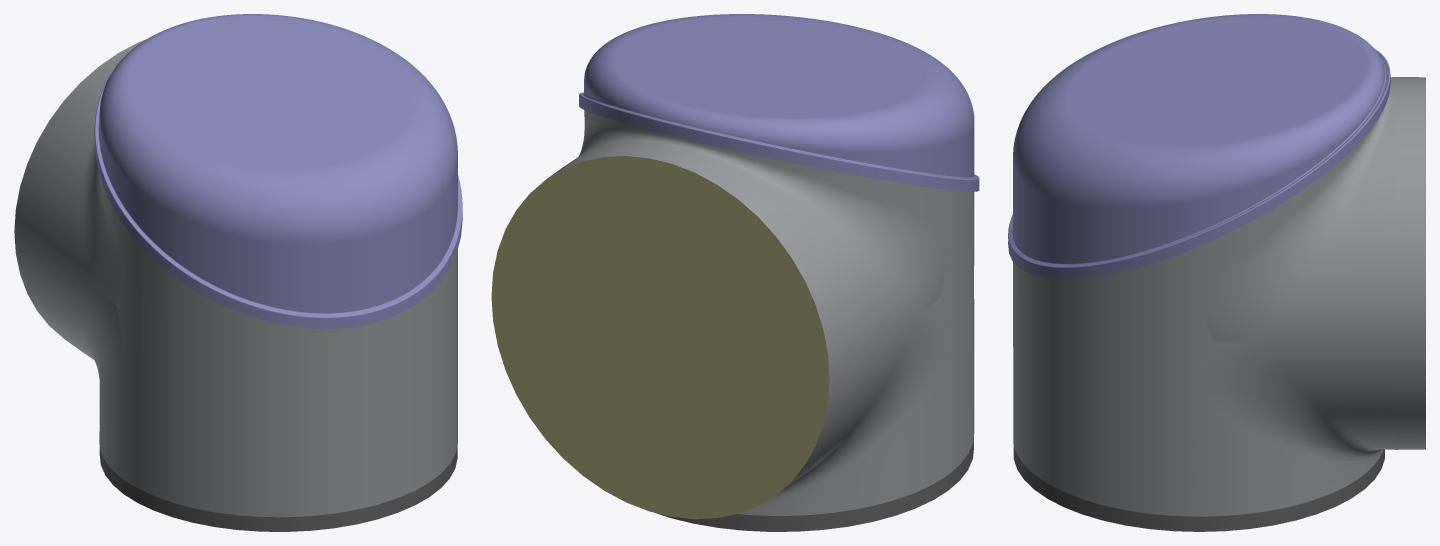
Rendered from Shoulder.fbx.
3 renders of one model, left to right at view 1: azimuth 30°, elevation 25°; view 2: azimuth 150°, elevation 25°; view 3: azimuth 270°, elevation 25°, orthographic. The views are drawn at different scales.
Parts seen in each view (by area): view 1: Actor0, Actor1; view 2: Actor0, Actor1; view 3: Actor0, Actor1.
Boxes of the visible parts, <box> form: Actor0: <box>14,39,457,531</box>; Actor1: <box>94,14,462,328</box>; Actor0: <box>491,110,974,531</box>; Actor1: <box>579,14,979,191</box>; Actor0: <box>1013,77,1425,531</box>; Actor1: <box>1008,14,1390,279</box>.
Size of the model in its own units: 11.9 by 13.37 by 13.
